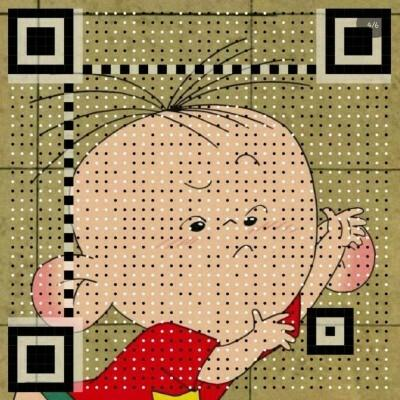QRCode: (1, 1, 400, 400)
